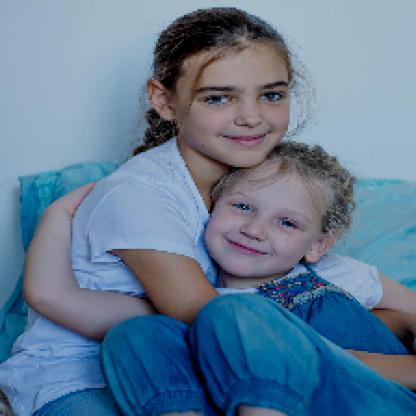child: (22, 140, 416, 415)
